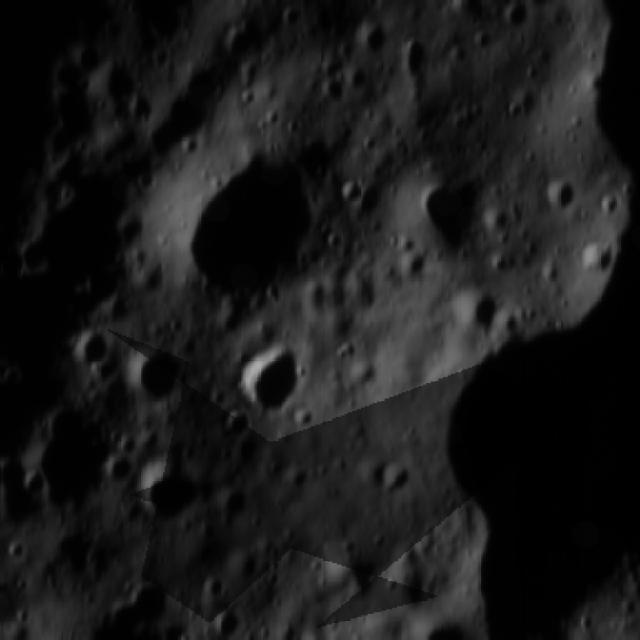crater: (415, 330, 640, 588), (150, 145, 328, 318), (390, 170, 501, 275), (40, 389, 102, 543), (126, 460, 205, 535), (241, 337, 299, 438), (93, 582, 181, 638), (453, 280, 513, 352), (139, 334, 178, 428), (82, 56, 142, 112), (567, 236, 624, 290), (202, 589, 260, 640), (525, 172, 578, 218), (490, 88, 544, 132), (362, 452, 409, 496), (74, 324, 108, 379), (496, 0, 532, 43), (434, 37, 472, 74), (305, 81, 347, 113), (347, 358, 381, 394), (219, 23, 252, 59), (357, 26, 392, 59), (216, 411, 255, 440), (363, 529, 391, 568), (594, 188, 626, 220), (0, 453, 23, 495), (472, 25, 498, 57), (344, 172, 367, 203), (6, 536, 26, 566), (280, 6, 300, 28)
